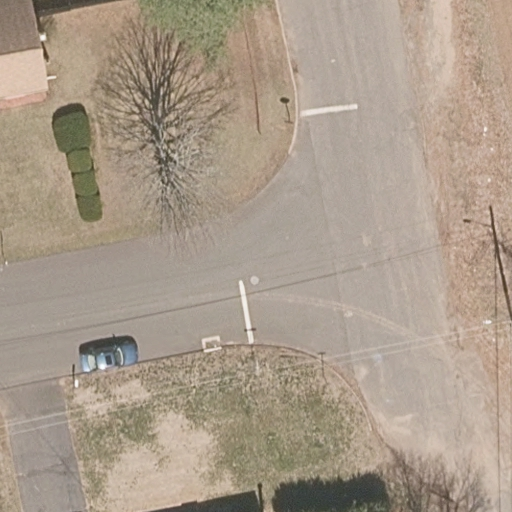DT: (498, 273, 512, 322)
